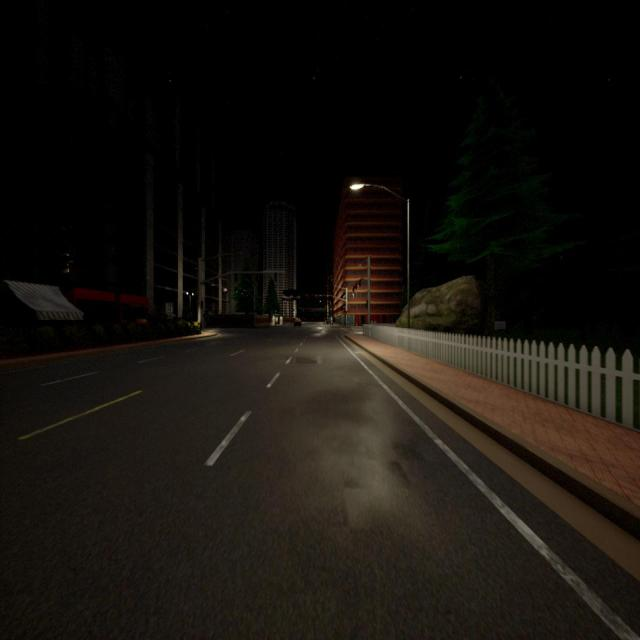Vehicle: (294, 318, 302, 328)
traffic_light: (365, 300, 368, 309), (359, 278, 361, 286), (355, 283, 357, 290), (345, 309, 347, 314), (353, 285, 354, 292), (306, 295, 308, 297), (316, 295, 317, 297), (327, 295, 328, 297)
